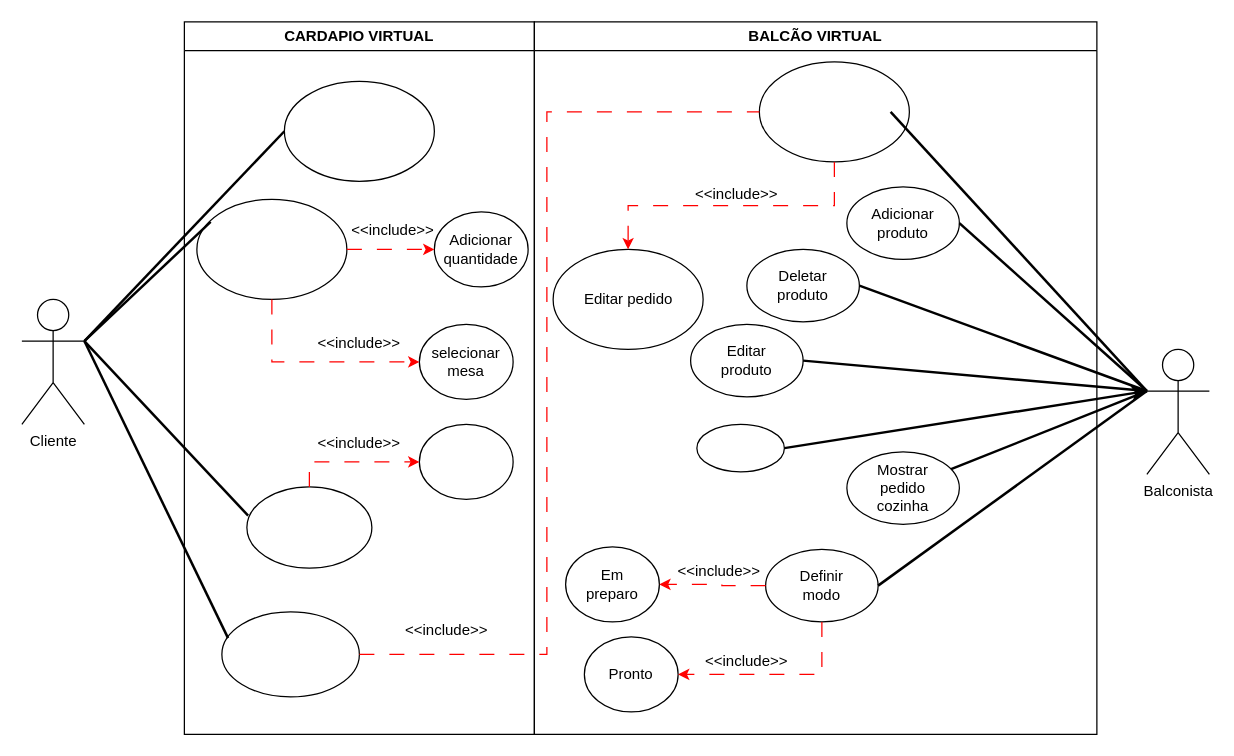
Image size: 1234x756. Some labels were removed from this diagram. The box of each missing label's shape, as (x1, y1, x2, y2) in pixels:
Adicionar produtos ao pedido: (196, 198, 347, 299)
Enviar pedido para o balcão: (221, 611, 359, 697)
Finalizar comanda: (418, 423, 513, 499)
Login: (696, 423, 784, 472)
Ver opções de produtos: (283, 80, 434, 181)
Visualizar lista de pedidos: (246, 486, 372, 568)
Visualizar pedidos: (758, 61, 909, 162)
